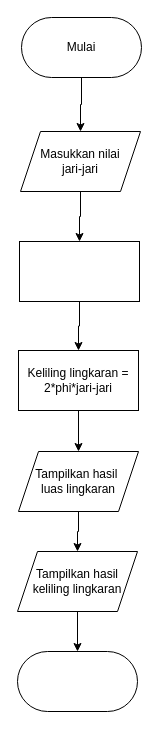
This 159x729 diagram has some shape labels left out. The box of each missing label's shape, as (x1, y1, x2, y2) in pixels:
Luas lingkaran = phi*jari-jari^2: (18, 240, 140, 302)
Selesai: (16, 650, 138, 712)
